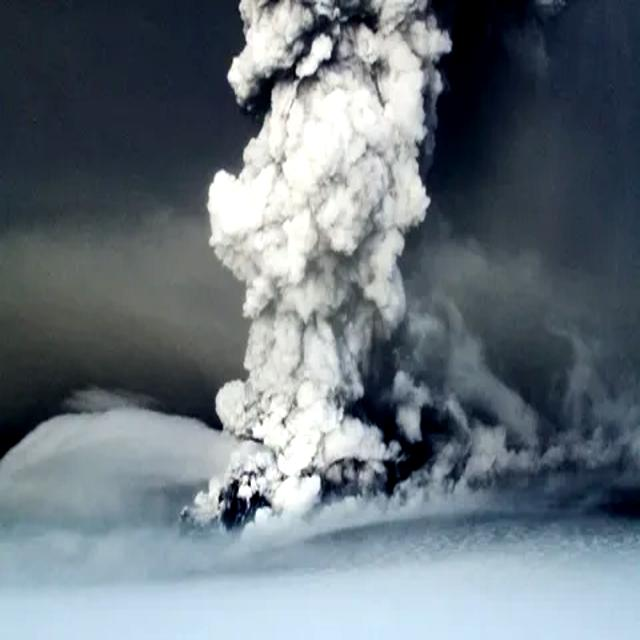Smoke: (192, 0, 523, 480)
